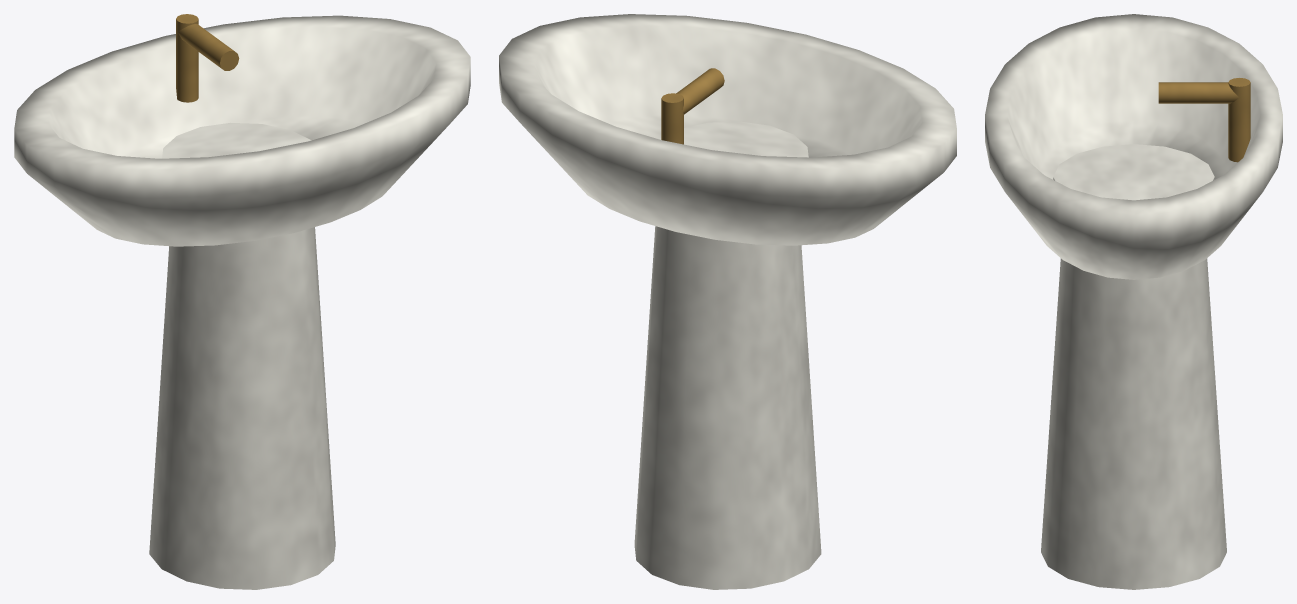
File: Furn_Sink.fbx
3 views of the same model, side by side, from view 1: azimuth 30°, elevation 25°; view 2: azimuth 150°, elevation 25°; view 3: azimuth 270°, elevation 25° (orthographic). The views are drawn at different scales.
Parts seen in each view (by area): view 1: Furn_Sink_Mesh; view 2: Furn_Sink_Mesh; view 3: Furn_Sink_Mesh.
Boxes of the visible parts, left/top/right/bottom form: Furn_Sink_Mesh: left=14, top=14, right=470, bottom=589; Furn_Sink_Mesh: left=499, top=14, right=956, bottom=589; Furn_Sink_Mesh: left=985, top=14, right=1282, bottom=589.
Bounding box in the file's own units: 0.8 × 0.87 × 0.5.
Materials: 2 (2 with a texture image).
